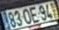3: (13, 9, 22, 27)
4: (45, 3, 52, 19)
8: (7, 11, 16, 28)
9: (37, 4, 47, 21)
E: (27, 5, 39, 23)
O: (21, 7, 31, 24)
